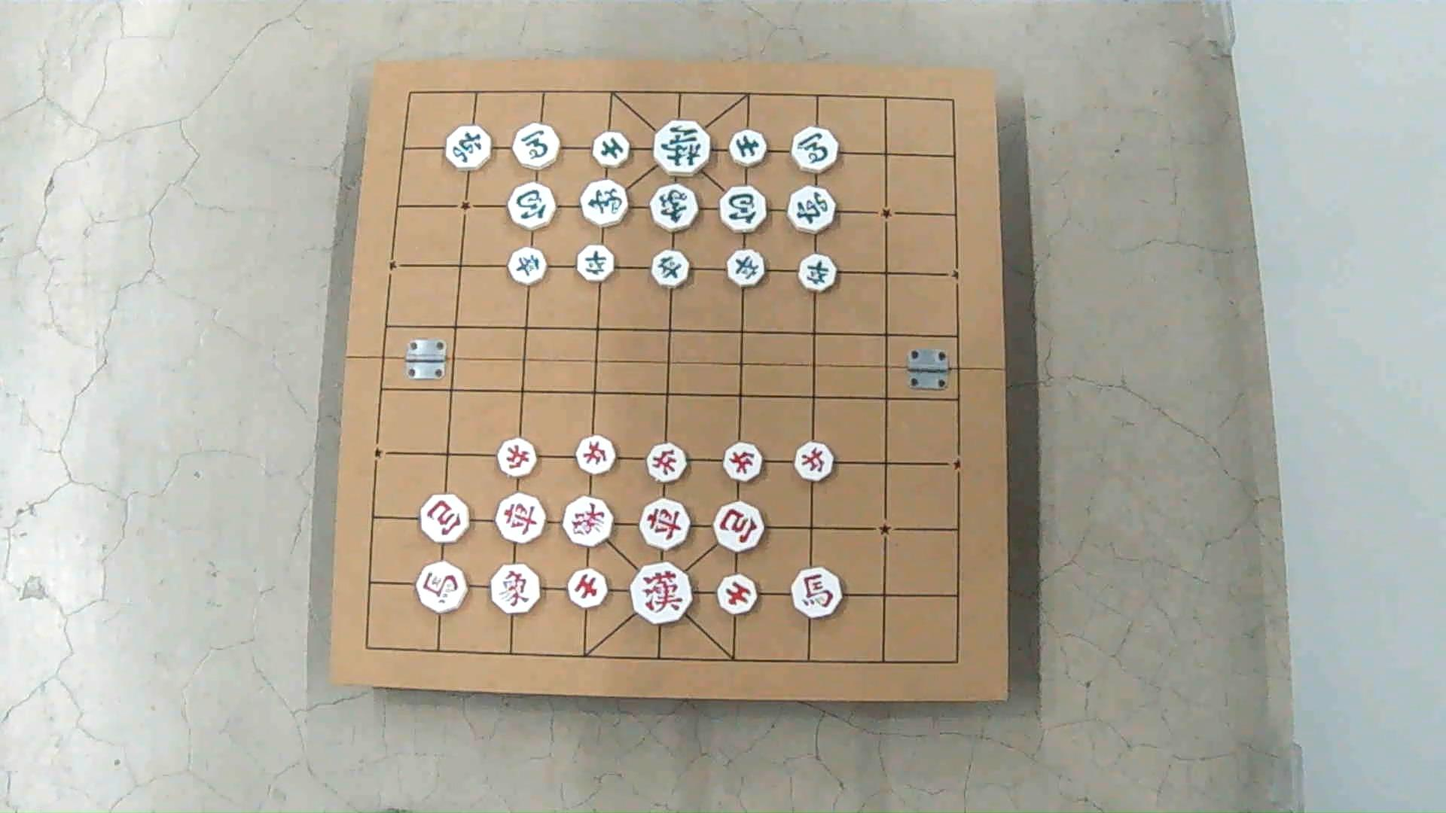cha_green: (788, 186, 838, 233), (446, 125, 492, 170)
cha_red: (496, 493, 547, 544), (640, 498, 691, 548)
jol_green: (507, 246, 547, 285), (651, 249, 689, 288), (799, 254, 837, 291), (728, 249, 765, 287), (577, 245, 615, 281)
jol_red: (646, 443, 686, 483), (723, 442, 763, 482), (497, 438, 537, 477), (795, 442, 834, 481), (576, 435, 615, 474)
ma_green: (791, 126, 839, 172), (513, 123, 561, 169)
ma_red: (416, 561, 467, 612), (792, 567, 841, 617)
po_green: (718, 184, 768, 233), (507, 183, 556, 229)
po_red: (714, 501, 765, 552), (419, 493, 471, 543)
sa_green: (728, 129, 767, 166), (591, 131, 630, 168)
sa_red: (717, 574, 757, 614), (568, 568, 608, 607)
sang_green: (649, 183, 700, 231), (580, 179, 629, 227)
sang_red: (490, 564, 541, 613), (563, 497, 613, 546)
wang_green: (653, 120, 711, 175)
wang_red: (631, 562, 692, 623)
